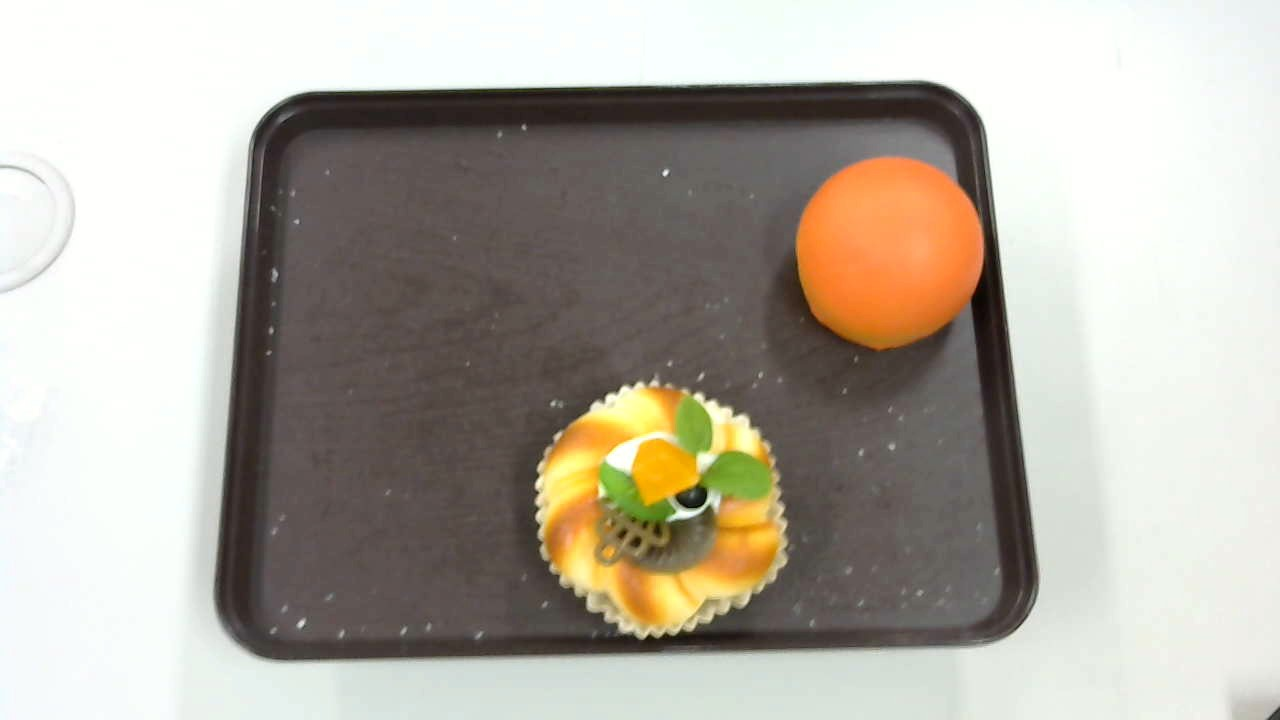bun: (795, 155, 986, 349)
fruit tart: (533, 380, 788, 641)
